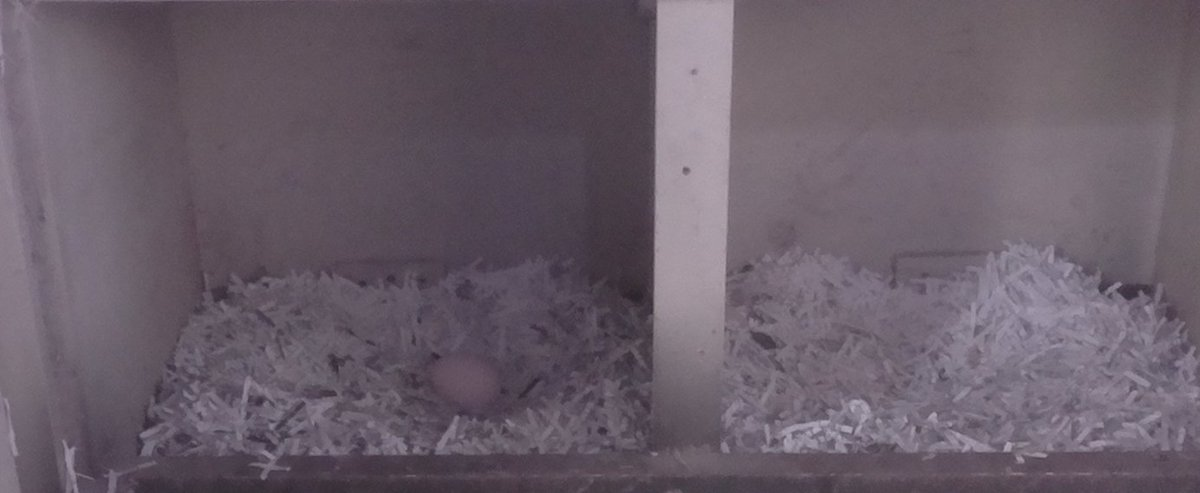egg: (429, 349, 505, 416)
